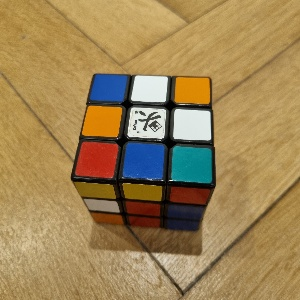cube: (71, 73, 217, 233)
